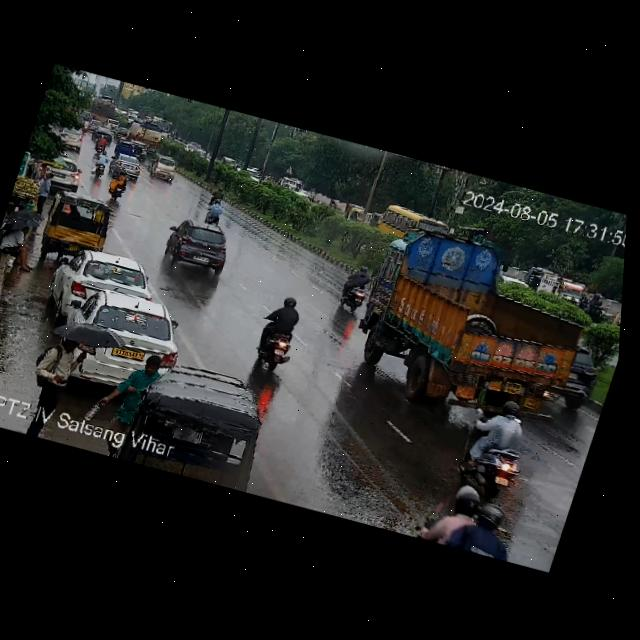bus: (373, 198, 449, 252)
car: (126, 356, 285, 493), (52, 286, 185, 387), (56, 244, 159, 305), (160, 213, 239, 283), (40, 187, 119, 254), (36, 153, 89, 192), (104, 149, 145, 182), (147, 152, 179, 184)
motorcycle: (455, 400, 534, 504), (419, 489, 516, 561), (251, 291, 309, 372), (339, 261, 378, 316), (108, 167, 132, 202), (89, 148, 111, 177), (204, 201, 225, 228), (209, 185, 224, 201)
person: (4, 308, 98, 443), (108, 352, 165, 447), (0, 220, 37, 279), (25, 169, 60, 224)
truck: (343, 222, 600, 433), (128, 114, 170, 149), (86, 91, 122, 127), (89, 131, 116, 157)
